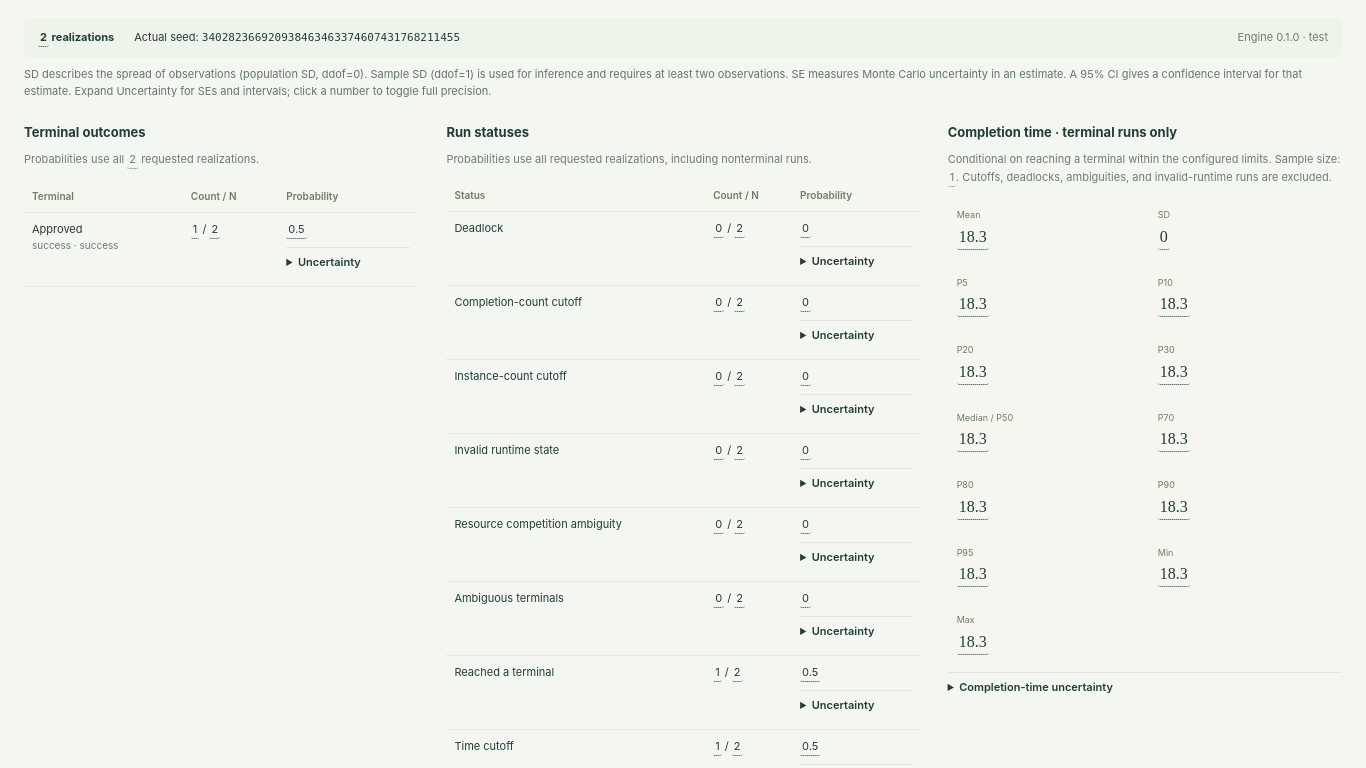
Scenario: renders conditioned results, separate statuses, lifecycle and the exact returned seed
Expected: the heading "Completion time · terminal runs only" is shown, top-left (948, 124), bottom-right (1177, 140)
Expected: the text "340282366920938463463374607431768211455" is shown, top-left (202, 31), bottom-right (460, 44)
Click the 1st button "18.3": [973, 238] box top-left (957, 225), bottom-right (989, 250)
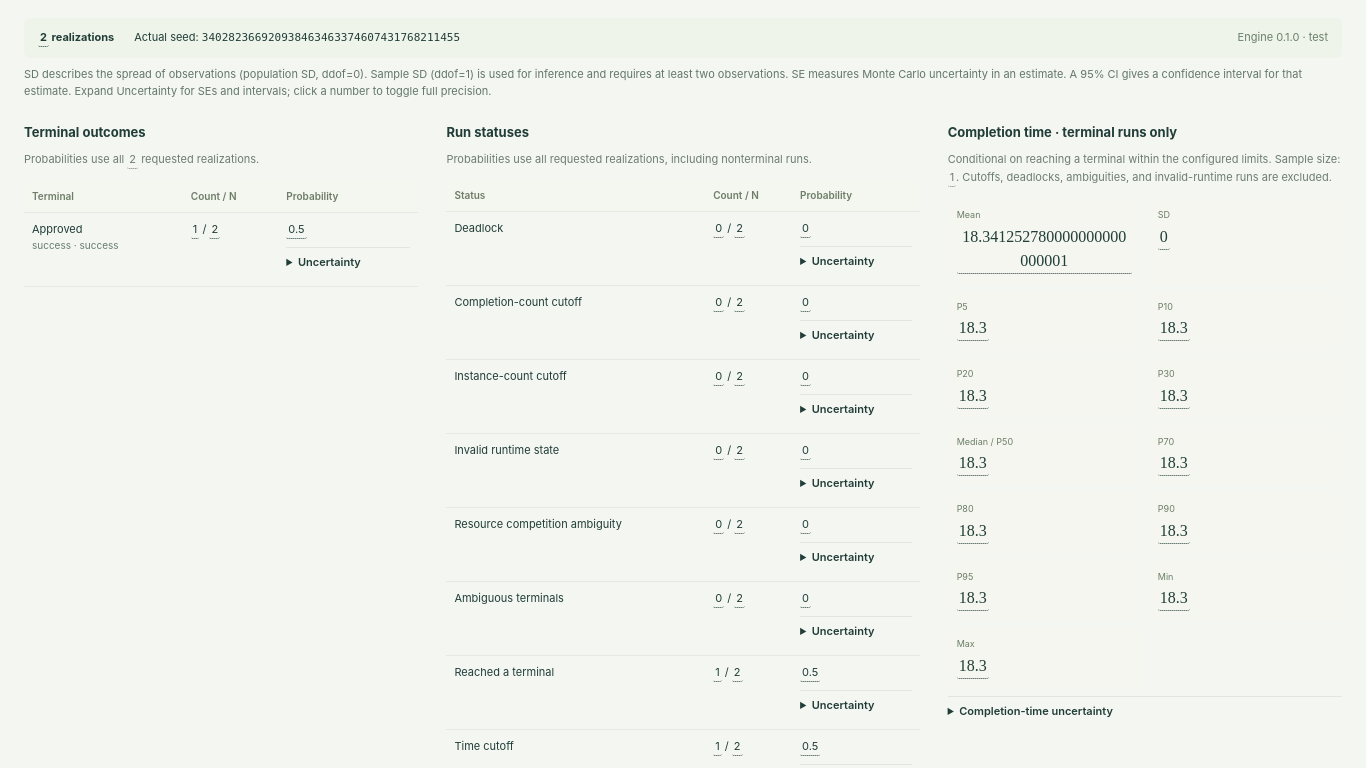
Now the button "18.341252780000000000000001" is shown
Click the button "18.341252780000000000000001": [1044, 250] box top-left (957, 225), bottom-right (1132, 274)
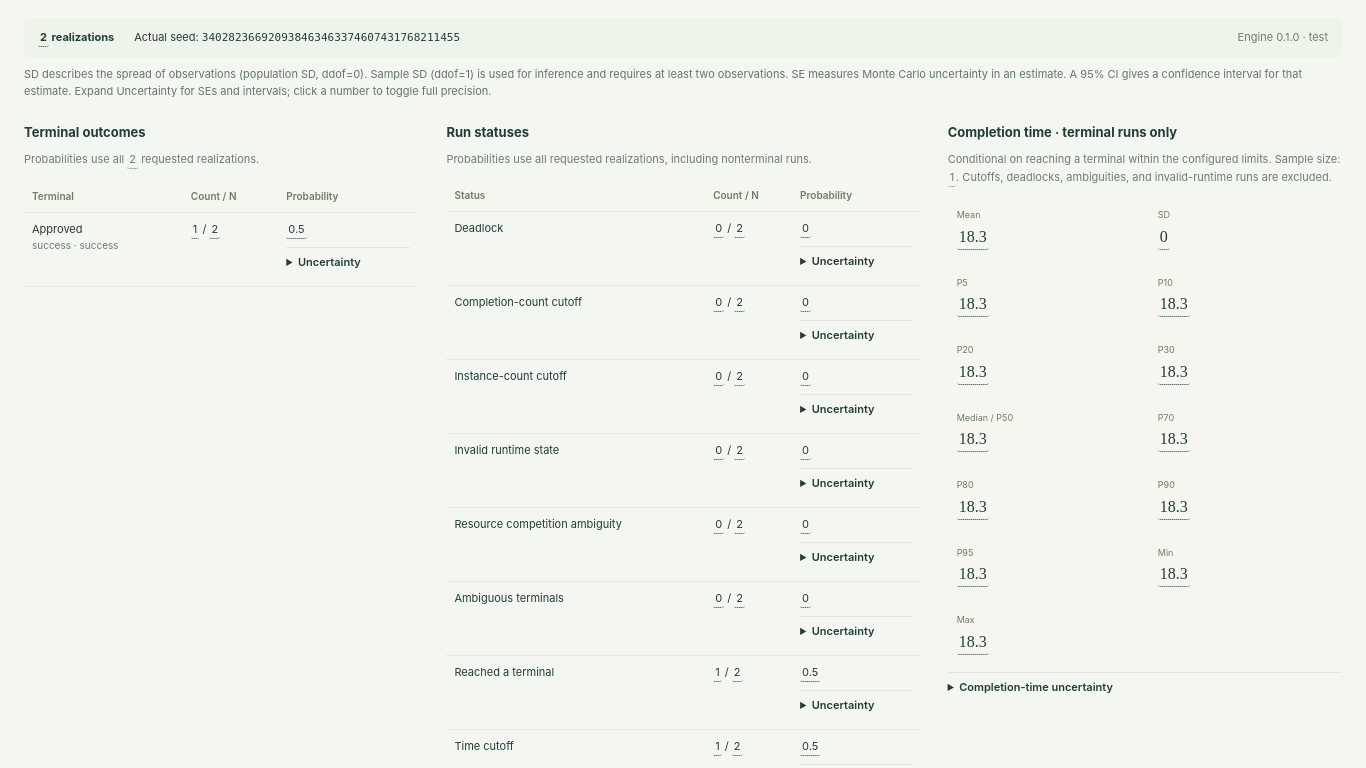
Now the 1st button "18.3" is shown
Click the 1st button "18.3": [973, 238] box top-left (957, 225), bottom-right (989, 250)
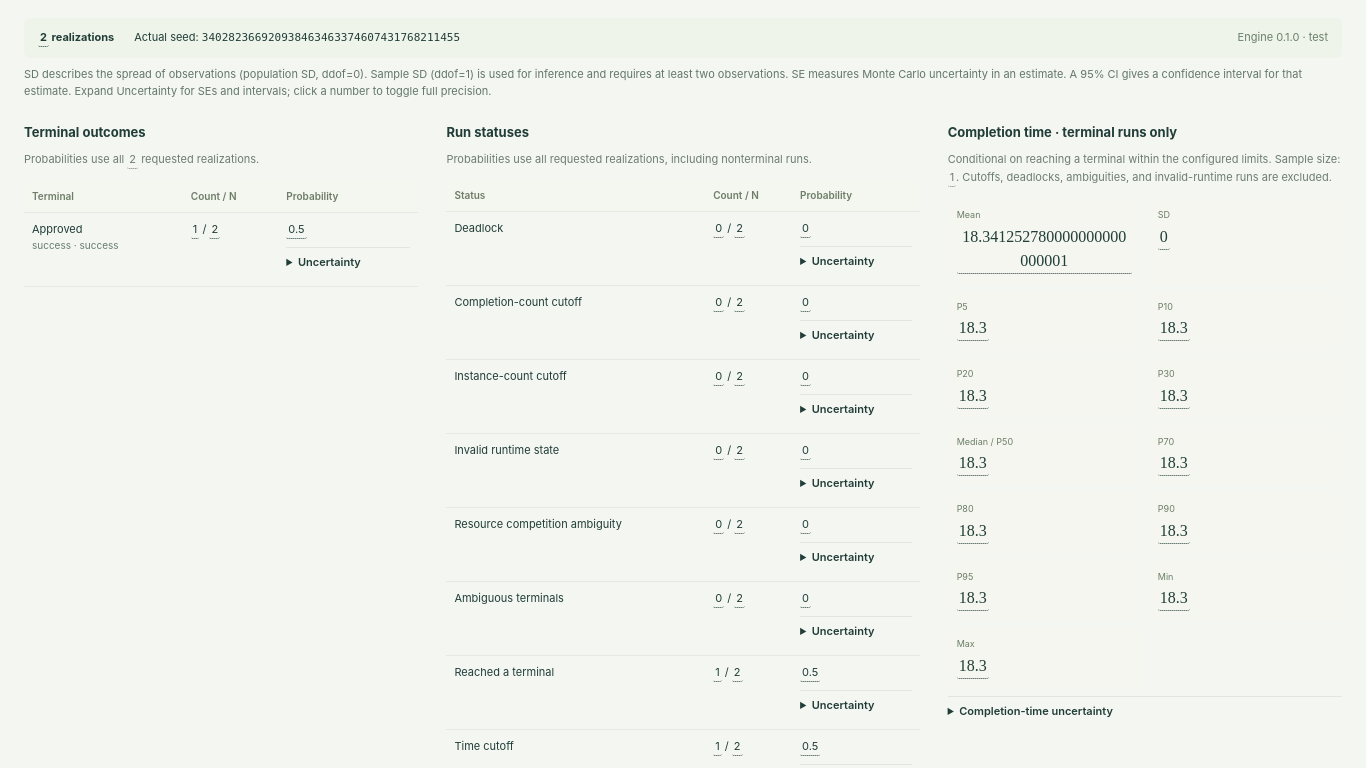
Now the button "18.341252780000000000000001" is shown
Click the button "18.341252780000000000000001": [1044, 250] box top-left (957, 225), bottom-right (1132, 274)
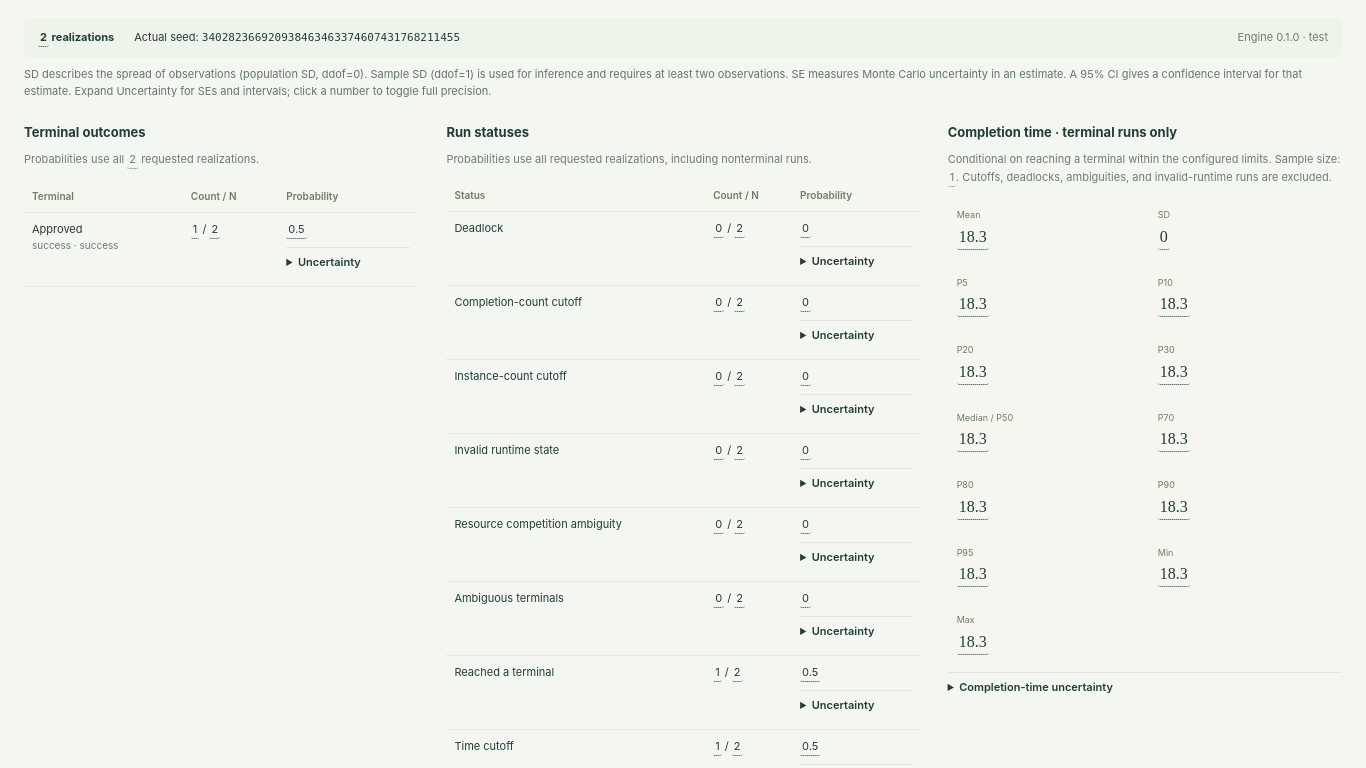
Now the 1st button "18.3" is shown
Click the 1st button "18.3": [973, 238] box top-left (957, 225), bottom-right (989, 250)
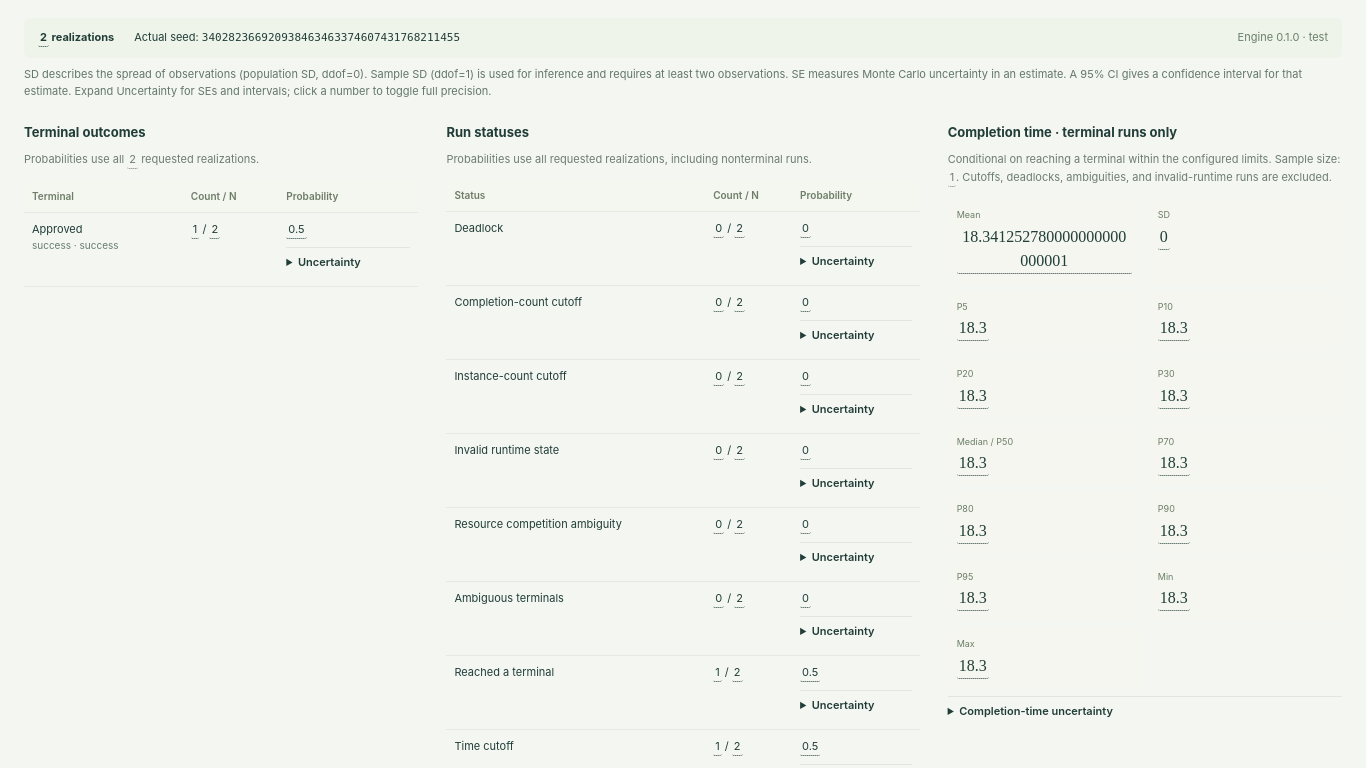
Now the button "18.341252780000000000000001" is shown
Click the button "18.341252780000000000000001": [1044, 250] box top-left (957, 225), bottom-right (1132, 274)
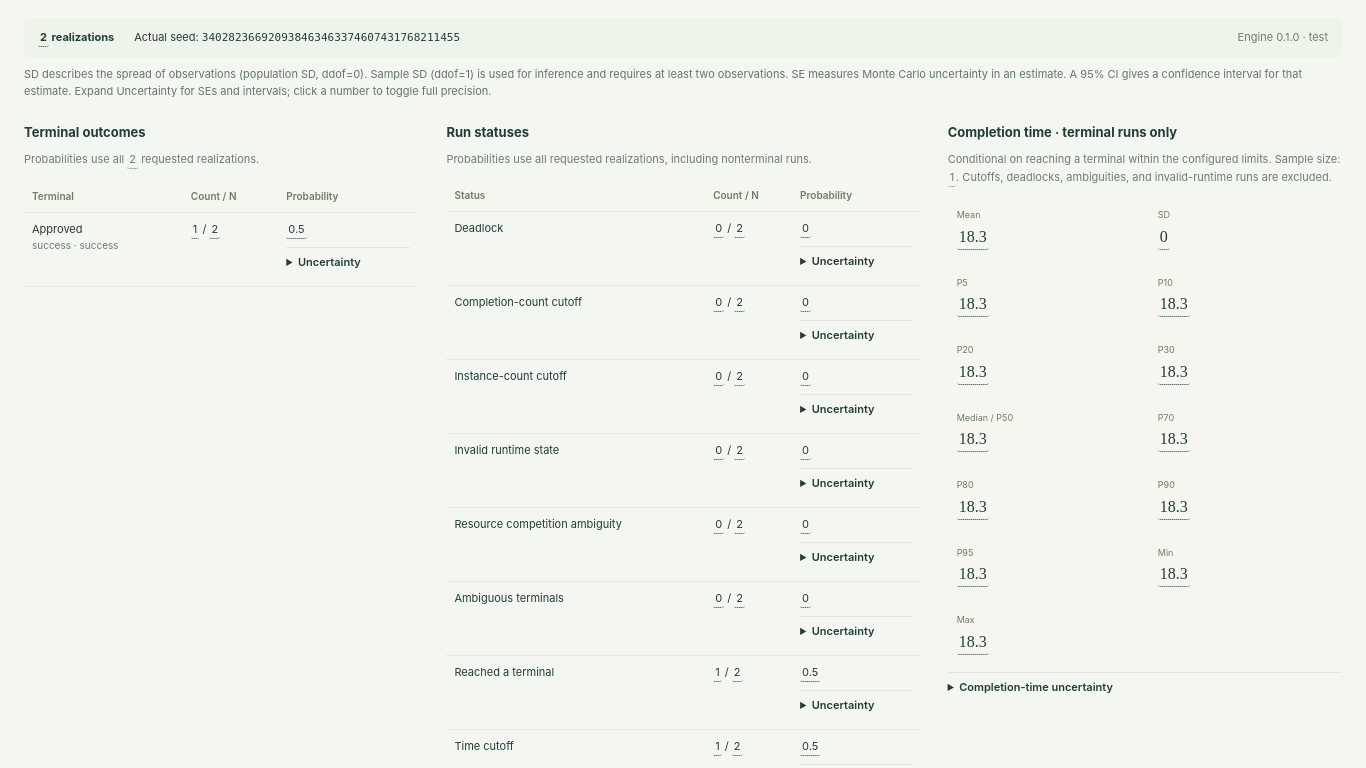
Now the 1st button "18.3" is shown, box top-left (957, 225), bottom-right (989, 250)
